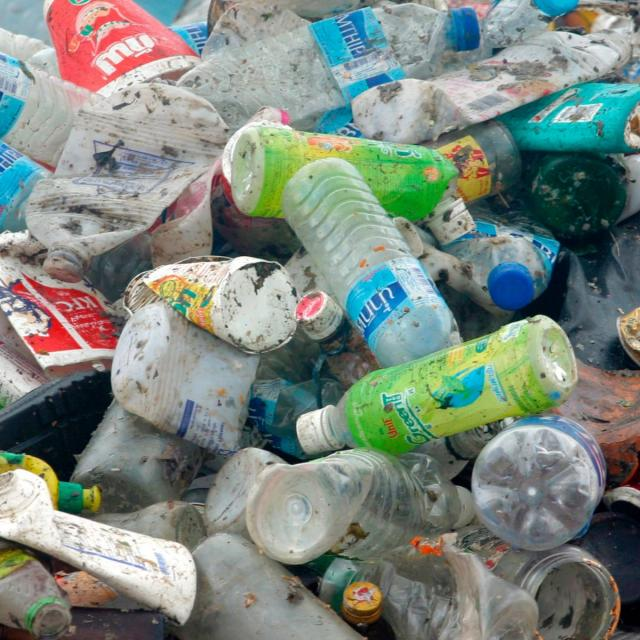plastic_bottle: (25, 22, 614, 624), (263, 119, 509, 427), (285, 280, 606, 482)
